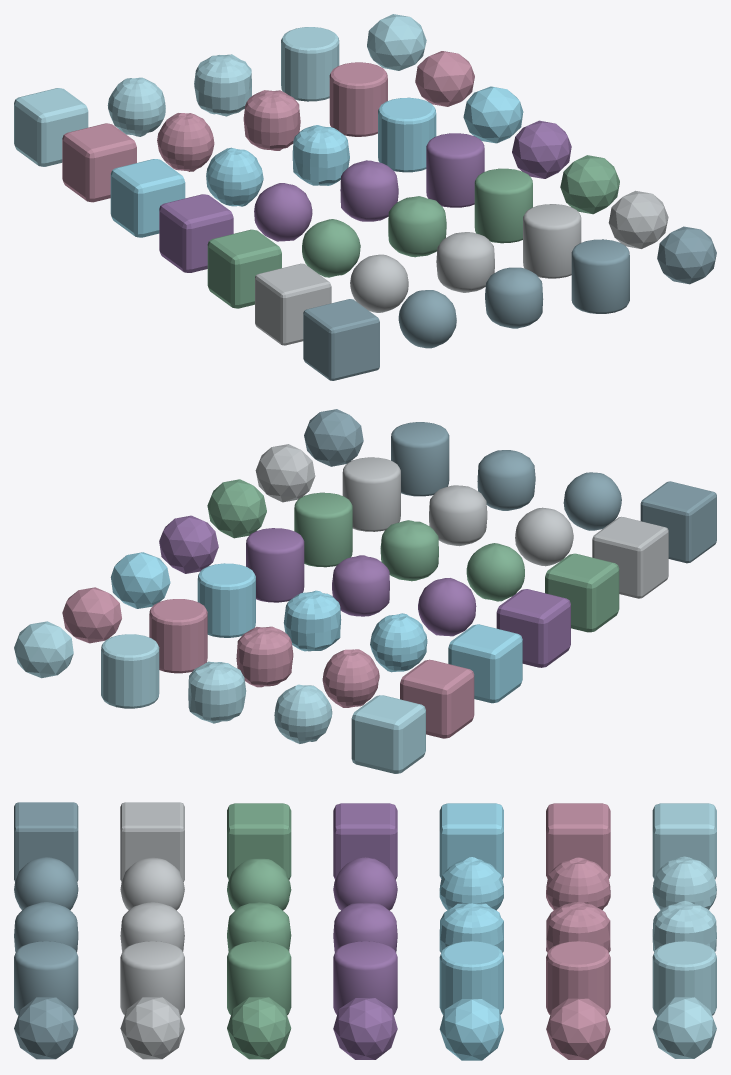
The model's file is HotZoneParts.fbx.
The picture shows the model from 3 angles, top to bottom: view 1: azimuth 30°, elevation 25°; view 2: azimuth 150°, elevation 25°; view 3: azimuth 270°, elevation 25°; orthographic projection. The views are drawn at different scales.
Parts seen in each view (by area): view 1: Machine_Box, Skeleton_Box, Ice_Box, Crystal_Box, Sandstone_Box, Spider_Box, Xeno_Box, Machine_Cylinder, Crystal_Cylinder, Sandstone_Cylinder, Ice_Cylinder, Spider_Cylinder (+23 smaller); view 2: Crystal_Box, Skeleton_Box, Machine_Box, Xeno_Box, Ice_Box, Sandstone_Box, Spider_Box, Crystal_Cylinder, Ice_Cylinder, Spider_Cylinder, Skeleton_Cylinder, Sandstone_Cylinder (+23 smaller); view 3: Skeleton_Box, Machine_Box, Xeno_Box, Ice_Box, Spider_Box, Sandstone_Box, Crystal_Box, Sandstone_Cylinder, Crystal_Cylinder, Ice_Cylinder, Machine_Cylinder, Skeleton_Cylinder (+23 smaller).
Boxes of the visible parts, bbox=[...] form: Machine_Box: bbox=[303, 299, 379, 380]; Skeleton_Box: bbox=[255, 263, 331, 345]; Ice_Box: bbox=[110, 159, 185, 237]; Crystal_Box: bbox=[14, 88, 88, 166]; Sandstone_Box: bbox=[62, 123, 136, 202]; Spider_Box: bbox=[159, 194, 233, 272]; Xeno_Box: bbox=[207, 229, 281, 308]; Machine_Cylinder: bbox=[571, 239, 629, 313]; Crystal_Cylinder: bbox=[281, 27, 339, 101]; Sandstone_Cylinder: bbox=[329, 62, 387, 136]; Ice_Cylinder: bbox=[378, 97, 436, 172]; Spider_Cylinder: bbox=[426, 133, 484, 207]; Crystal_Box: bbox=[351, 695, 425, 773]; Skeleton_Box: bbox=[592, 516, 668, 598]; Machine_Box: bbox=[640, 481, 716, 563]; Xeno_Box: bbox=[545, 553, 619, 632]; Ice_Box: bbox=[448, 624, 522, 703]; Sandstone_Box: bbox=[400, 659, 474, 738]; Spider_Box: bbox=[496, 589, 570, 667]; Crystal_Cylinder: bbox=[101, 634, 159, 708]; Ice_Cylinder: bbox=[197, 563, 255, 637]; Spider_Cylinder: bbox=[246, 528, 304, 602]; Skeleton_Cylinder: bbox=[342, 457, 400, 531]; Sandstone_Cylinder: bbox=[149, 599, 207, 673]; Skeleton_Box: bbox=[120, 802, 184, 881]; Machine_Box: bbox=[14, 802, 78, 881]; Xeno_Box: bbox=[227, 803, 291, 879]; Ice_Box: bbox=[439, 803, 503, 878]; Spider_Box: bbox=[333, 803, 397, 879]; Sandstone_Box: bbox=[546, 803, 610, 878]; Crystal_Box: bbox=[652, 803, 716, 879]; Sandstone_Cylinder: bbox=[546, 941, 610, 1014]; Crystal_Cylinder: bbox=[652, 941, 716, 1015]; Ice_Cylinder: bbox=[439, 941, 503, 1014]; Machine_Cylinder: bbox=[14, 941, 78, 1015]; Skeleton_Cylinder: bbox=[120, 941, 184, 1015].
Bounding box in the file's own units: 780 × 100 × 1090.
